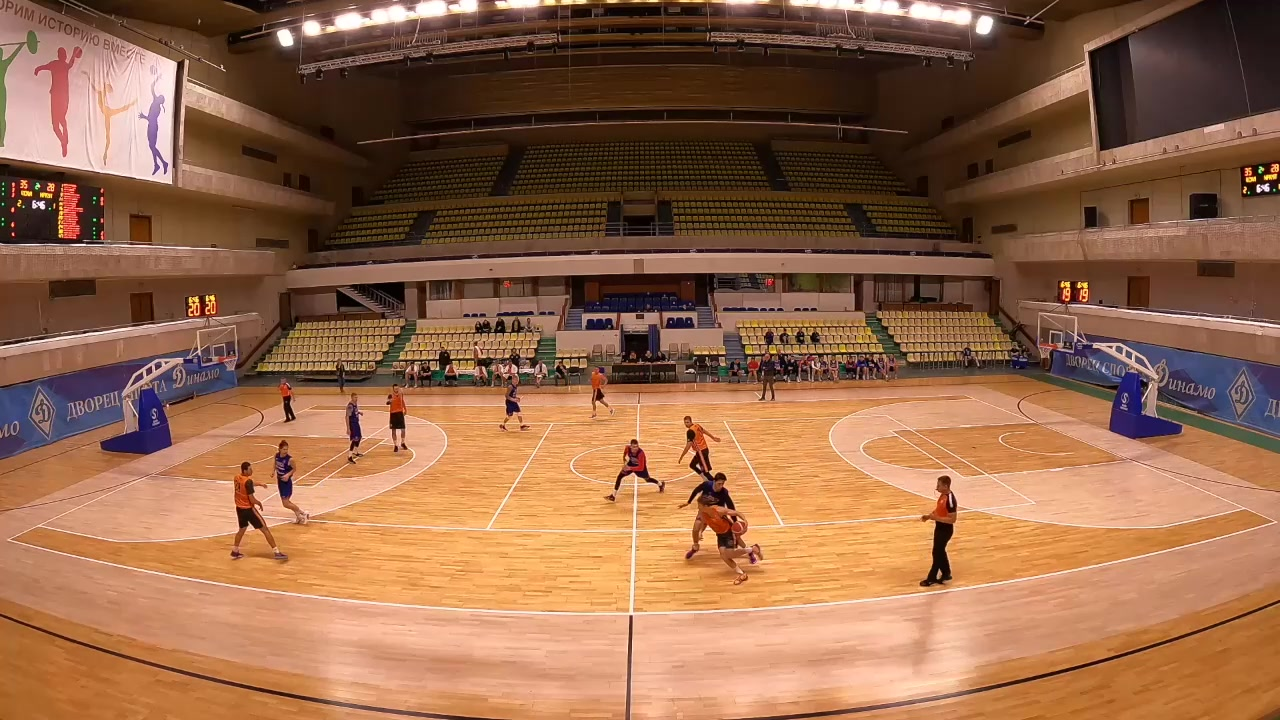basketball: (536, 523, 571, 550)
